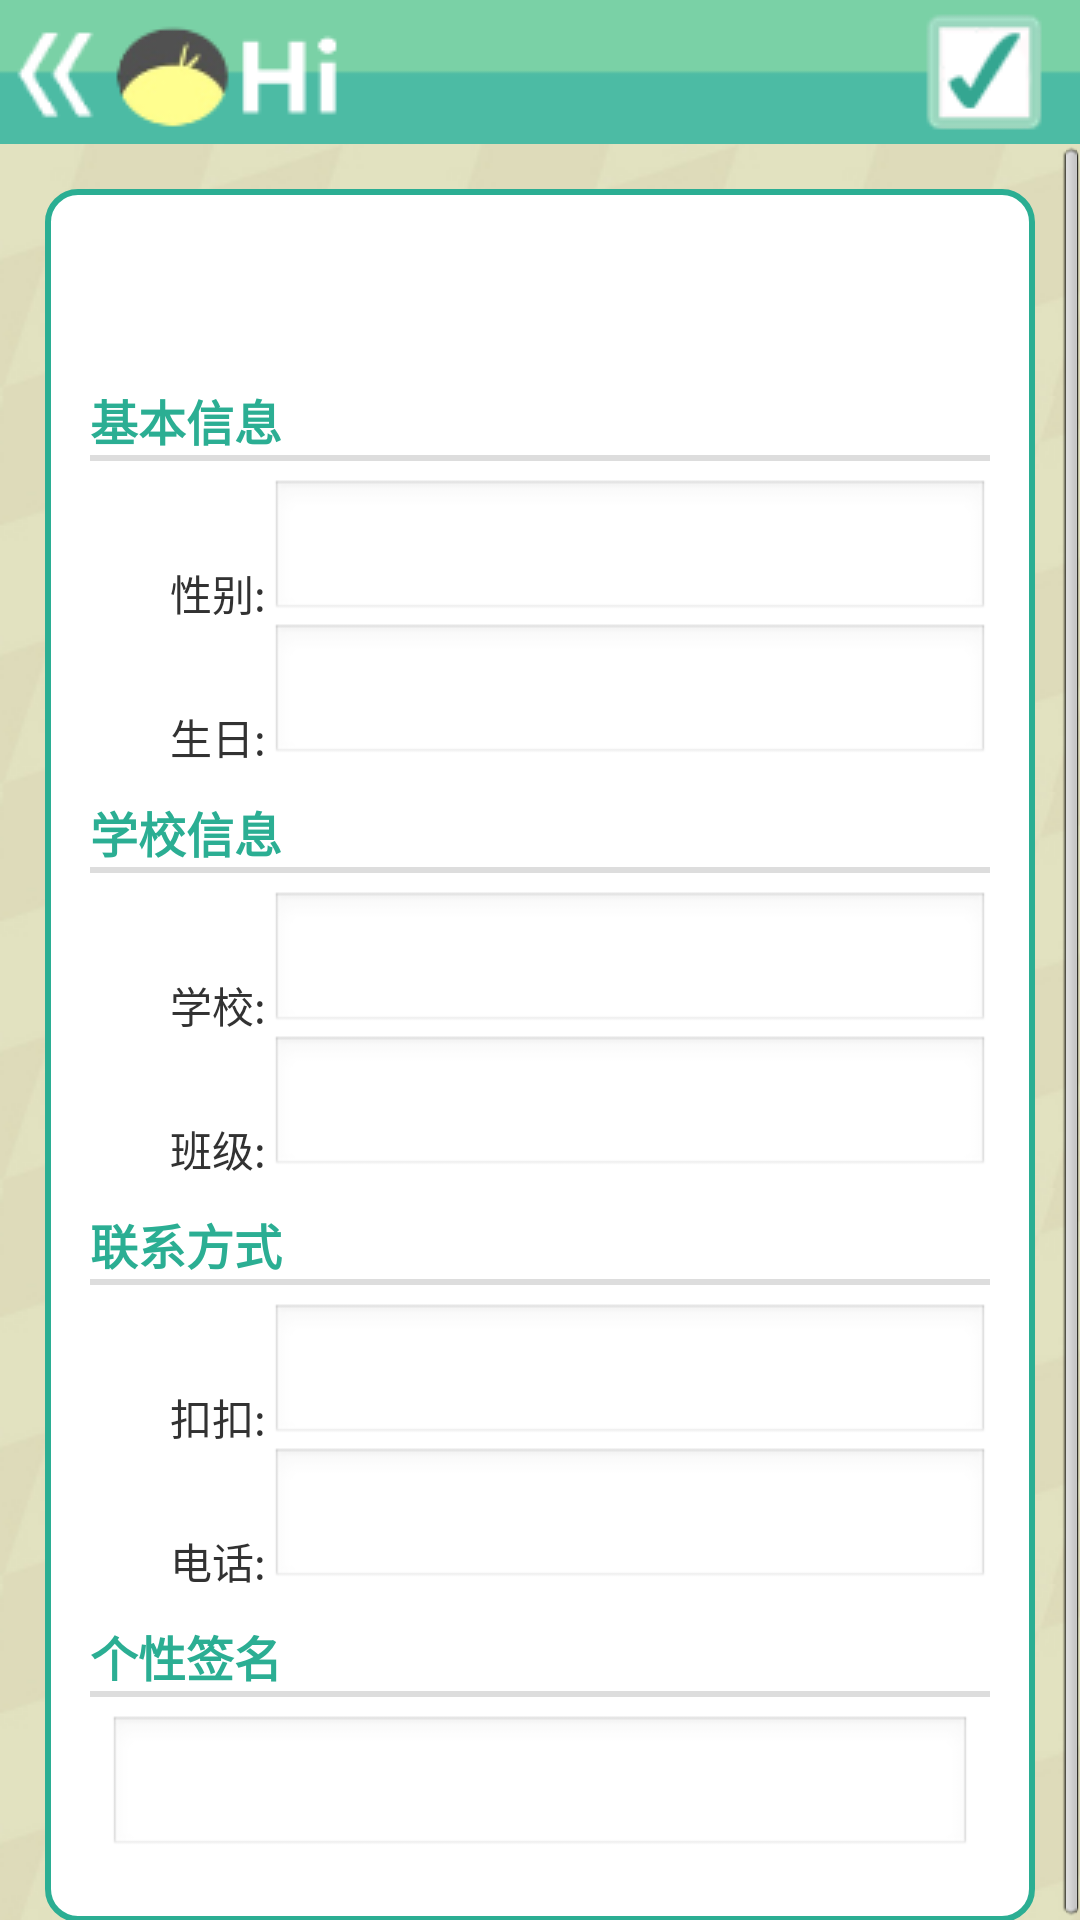

Named icons in this screenshot (1080x1920) and their centers, (x,y):
title: (226,70)
